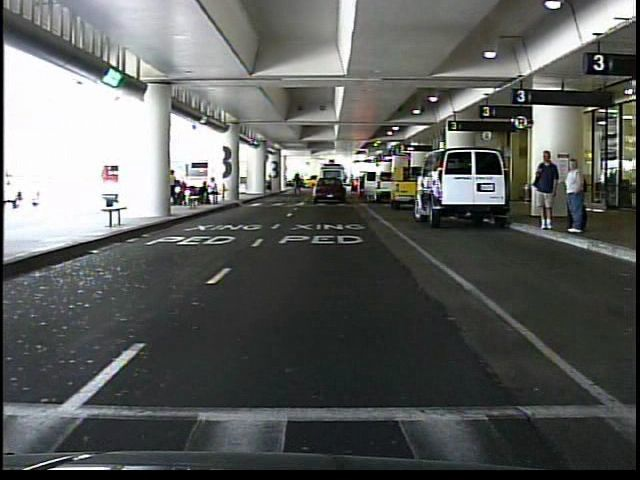person: (531, 146, 561, 233), (560, 153, 589, 238), (347, 168, 361, 198), (266, 169, 277, 193)
